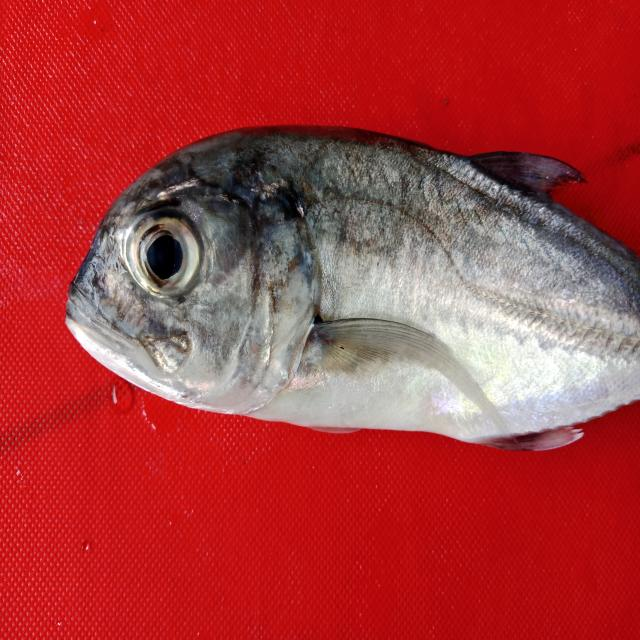ikan: (64, 122, 639, 452)
